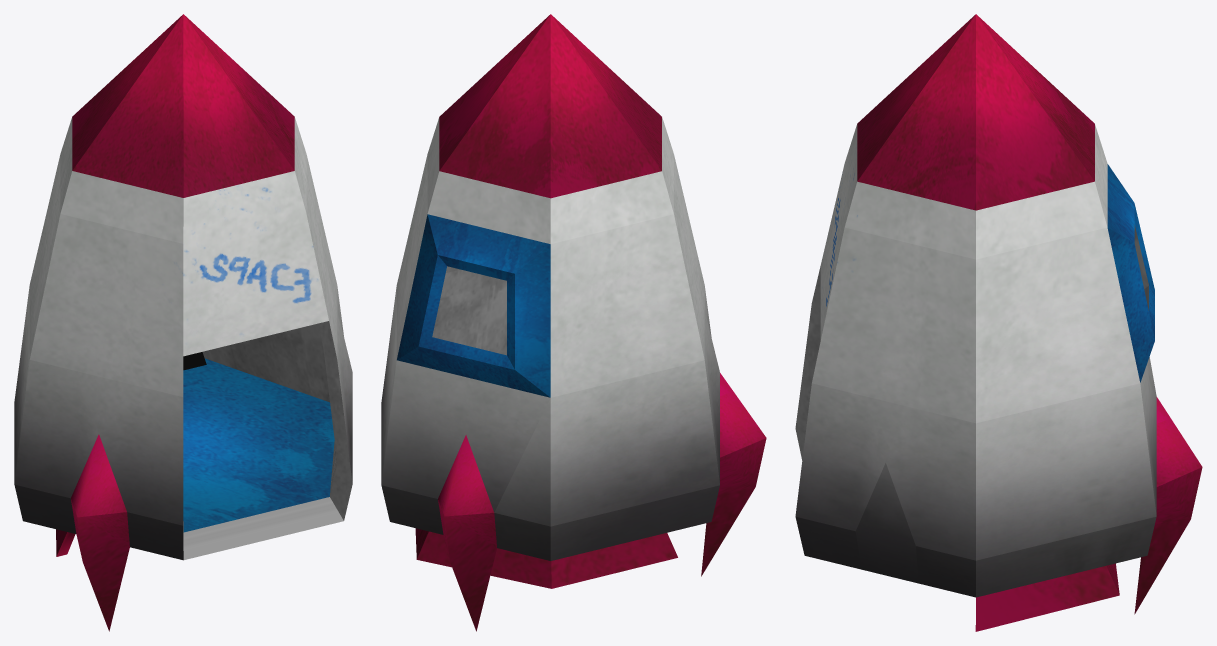
Rendered from spaceship-damaged.fbx.
The picture shows the model from 3 angles, left to right: view 1: azimuth 30°, elevation 25°; view 2: azimuth 150°, elevation 25°; view 3: azimuth 270°, elevation 25°; orthographic projection. The views are drawn at different scales.
Visible parts, largest first — view 1: polySurface15; view 2: polySurface15; view 3: polySurface15.
Boxes of the visible parts, x1,y1,x2,y2 form: polySurface15: [14, 14, 352, 631]; polySurface15: [381, 14, 766, 631]; polySurface15: [795, 14, 1202, 631].
Size of the model in its own units: 4.28 by 6.8 by 4.17.
Materials: 1 (1 with a texture image).
